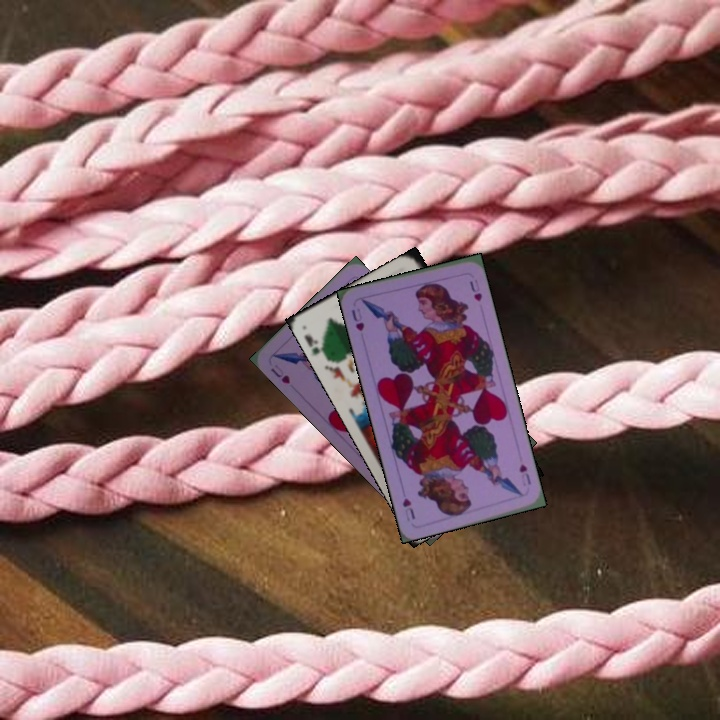GK: (300, 330, 330, 361)
HU: (266, 360, 293, 387), (347, 304, 367, 334), (515, 460, 534, 487)
